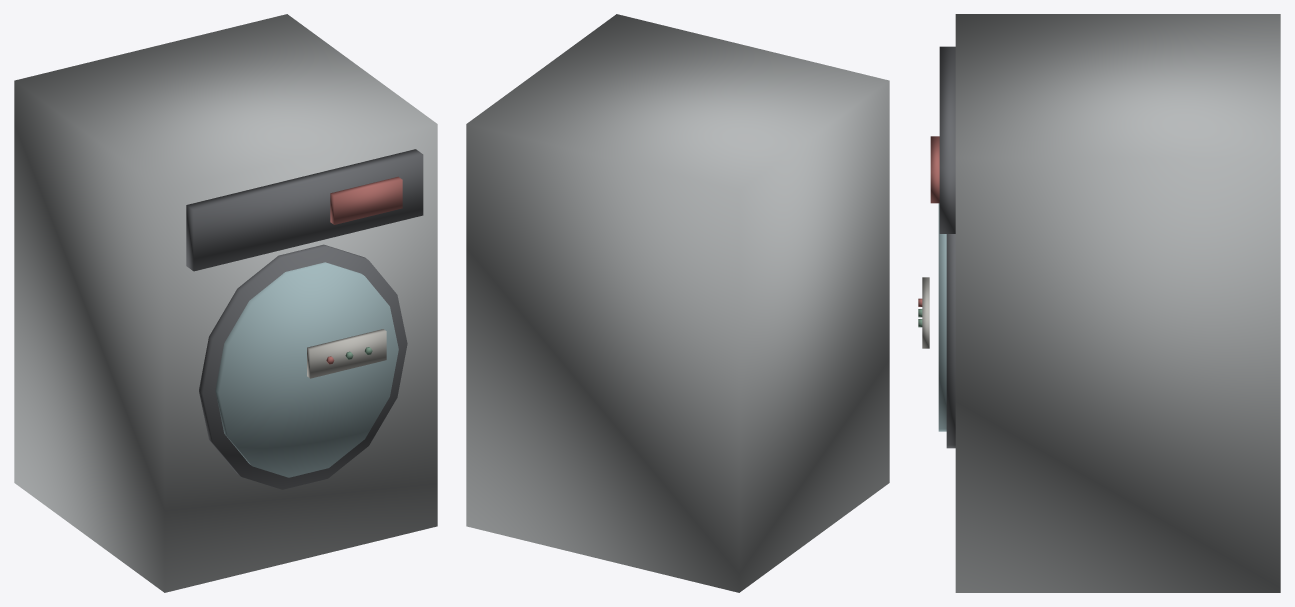
Rendered from industrial_dryer__compact.glb.
The picture shows the model from 3 angles, left to right: view 1: azimuth 30°, elevation 25°; view 2: azimuth 150°, elevation 25°; view 3: azimuth 270°, elevation 25°; orthographic projection. The views are drawn at different scales.
Visible parts, largest first — view 1: world; view 2: world; view 3: world.
Boxes of the visible parts, <box> form: world: <box>14,14,437,592</box>; world: <box>466,14,889,592</box>; world: <box>918,14,1280,592</box>.
Bounding box in the file's own units: 0.7392 × 1.04 × 0.7856.
